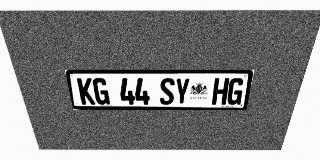4: (119, 78, 135, 105), (134, 78, 150, 105)
G: (226, 78, 245, 105), (92, 78, 110, 105)
H: (212, 78, 230, 105)
K: (77, 78, 95, 105)
S: (160, 78, 175, 105)
Y: (174, 78, 190, 105)
